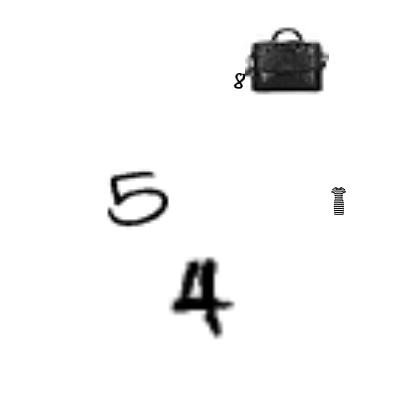4: (142, 238, 254, 350)
5: (93, 157, 177, 241)
8: (228, 69, 250, 91)
Bag: (245, 19, 329, 103)
Dress: (325, 187, 353, 215)
